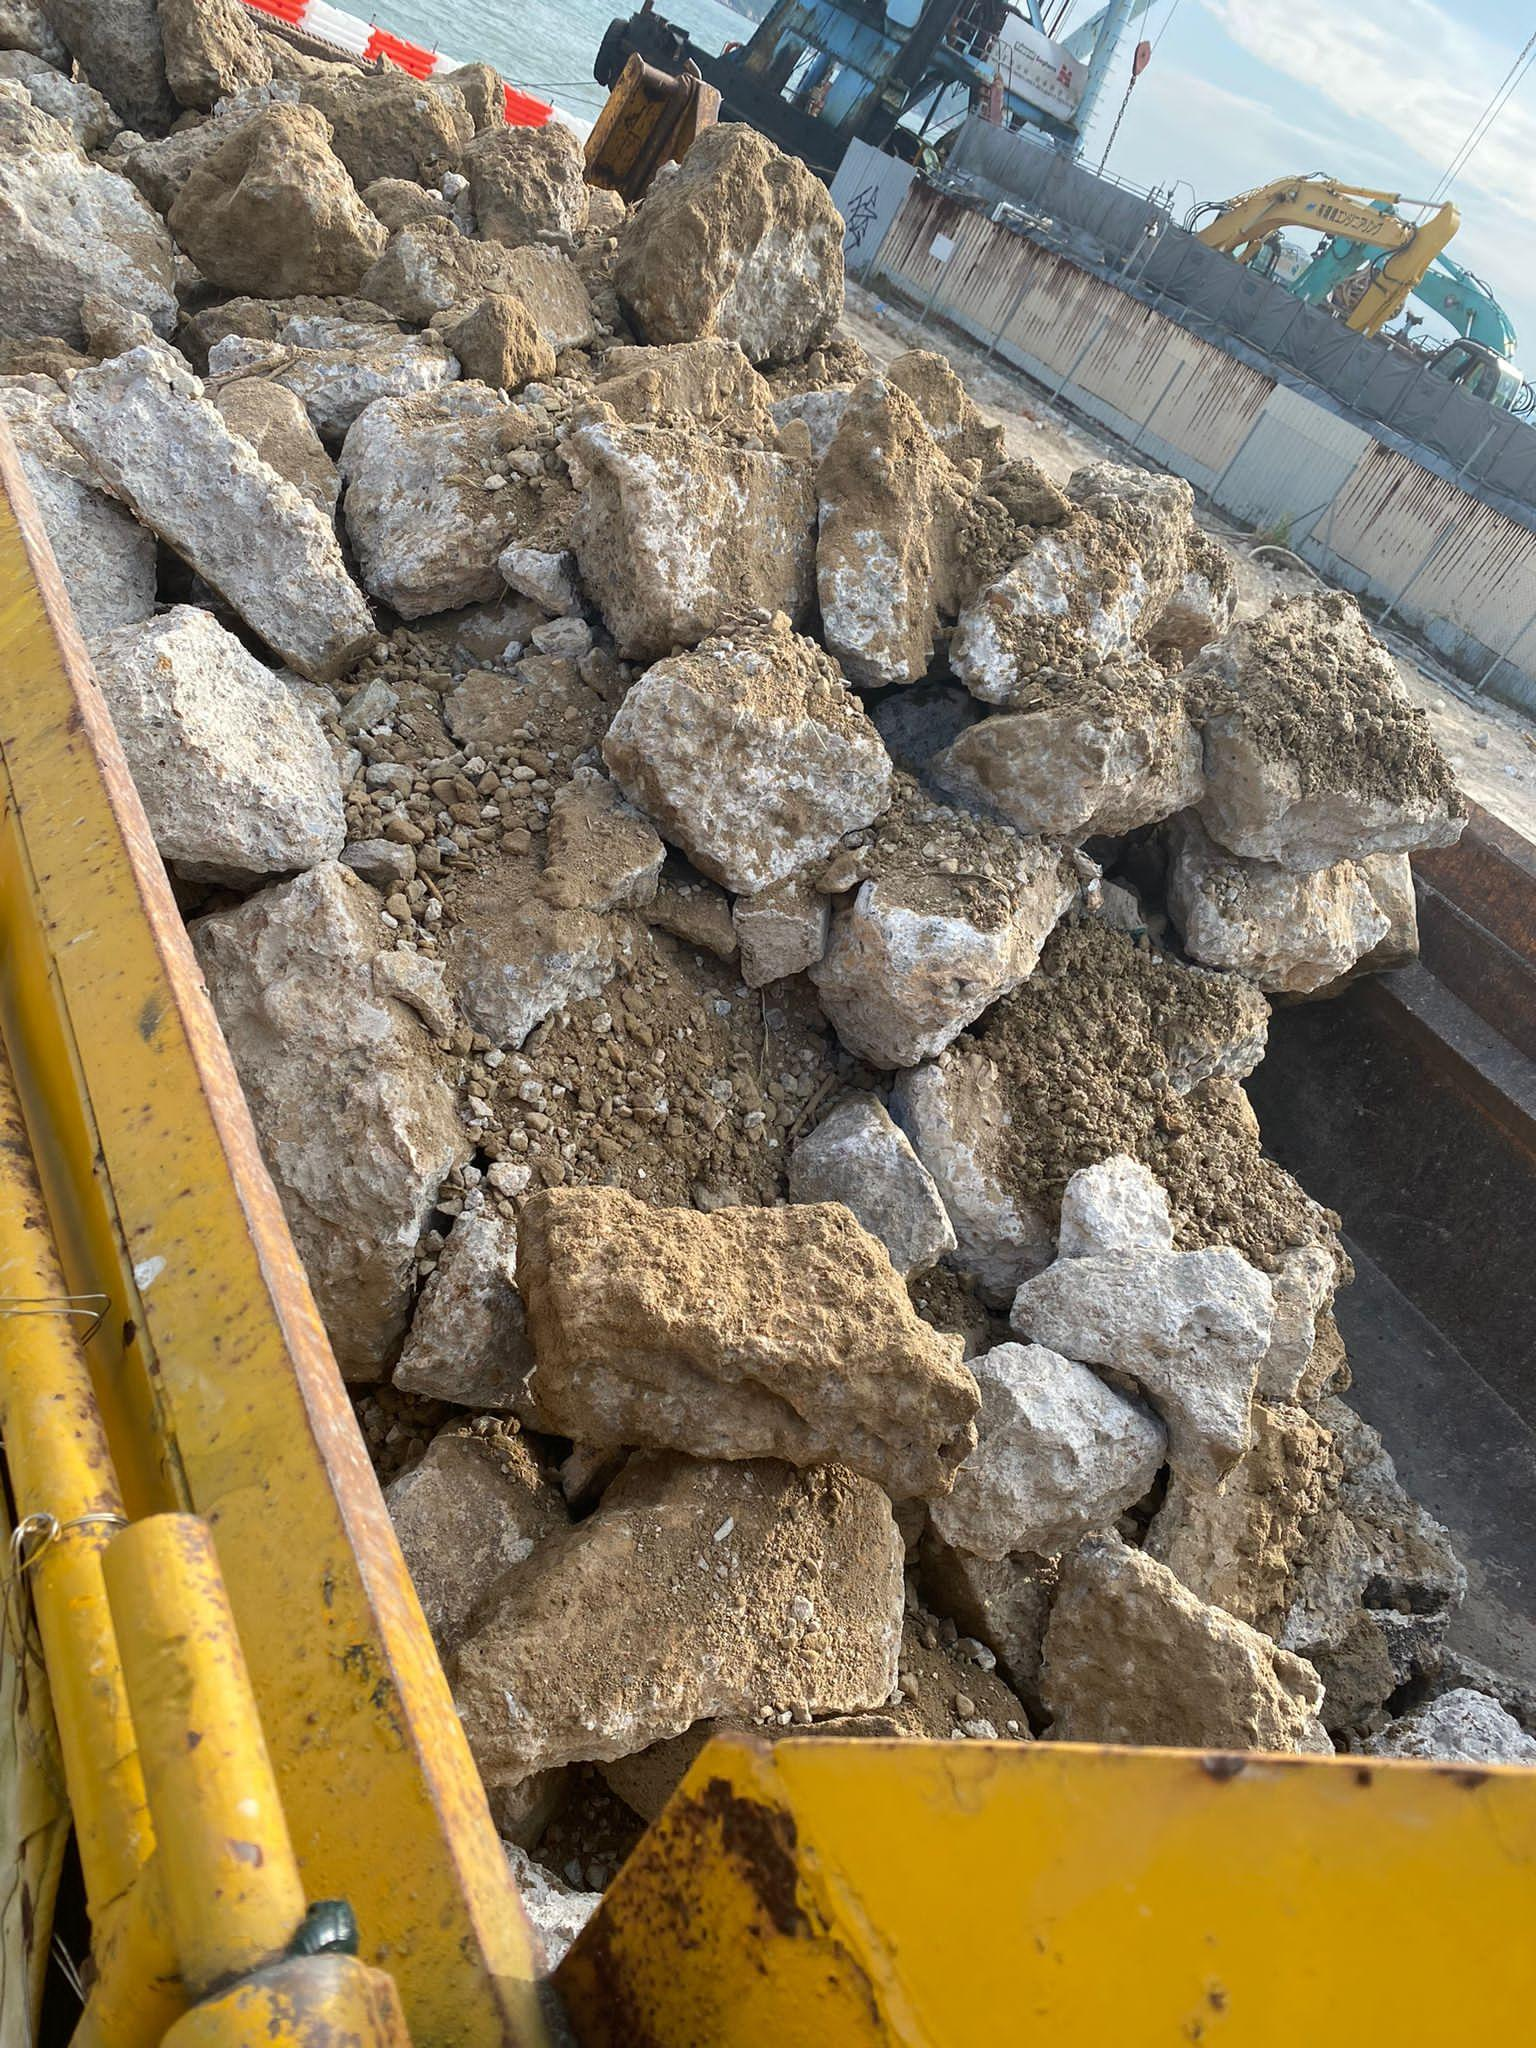dry: (0, 0, 1517, 1774)
